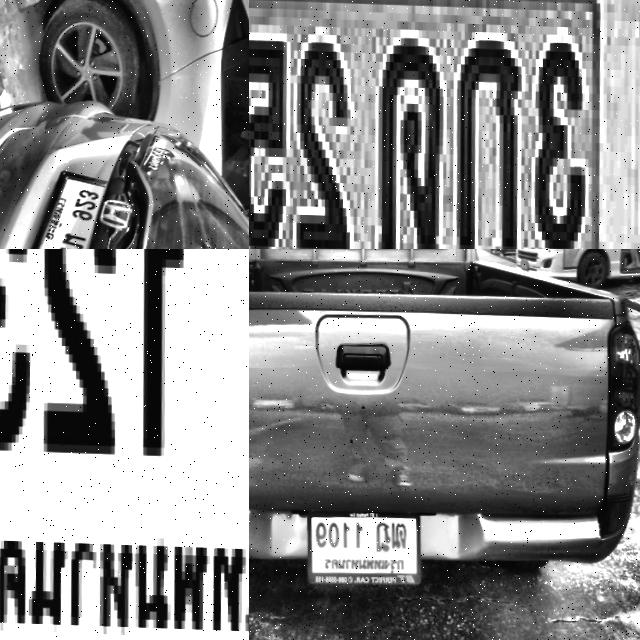license-plate: (249, 0, 640, 249), (0, 249, 249, 640), (299, 508, 417, 590), (514, 256, 528, 271)
